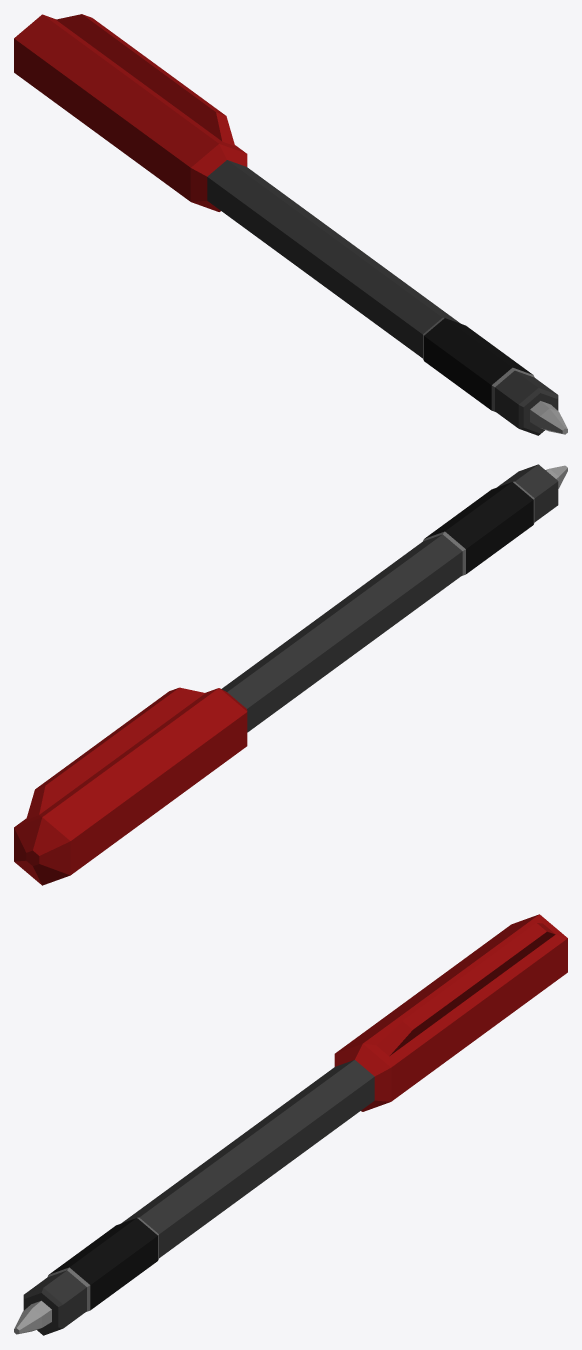
File: PenV2Red.fbx
3 views of the same model, one above another, from view 1: azimuth 30°, elevation 25°; view 2: azimuth 150°, elevation 25°; view 3: azimuth 330°, elevation 25° (orthographic).
Parts seen in each view (by area): view 1: PenV2Red; view 2: PenV2Red; view 3: PenV2Red.
Boxes of the visible parts, x1,y1,x2,y2 form: PenV2Red: [14, 14, 567, 435]; PenV2Red: [14, 464, 567, 885]; PenV2Red: [14, 914, 567, 1335].
Bounding box in the file's own units: 0.6611 × 0.8859 × 10.7.
